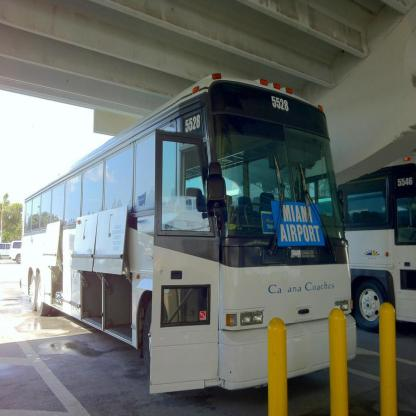Car: (10, 239, 21, 263), (0, 244, 8, 260)
